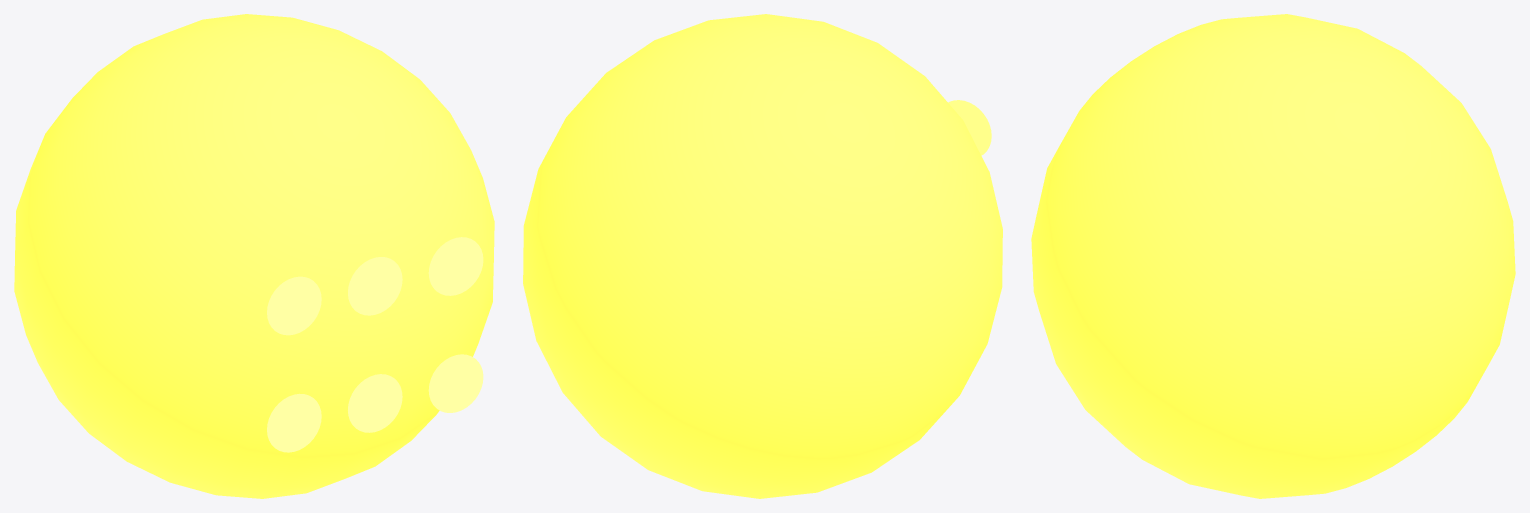
The model's file is ball-6.glb.
3 views of the same model, side by side, from view 1: azimuth 30°, elevation 25°; view 2: azimuth 150°, elevation 25°; view 3: azimuth 270°, elevation 25° (orthographic).
Visible parts, largest first — view 1: BallGlow, LogosGlow; view 2: BallGlow, LogosGlow; view 3: BallGlow.
Part boxes in pixels (bbox=[...]): BallGlow: bbox=[14, 14, 494, 498]; LogosGlow: bbox=[267, 237, 483, 452]; BallGlow: bbox=[523, 14, 1002, 498]; LogosGlow: bbox=[948, 100, 991, 155]; BallGlow: bbox=[1031, 14, 1515, 498].
Size of the model in its own units: 0.333 by 0.3376 by 0.3368.
